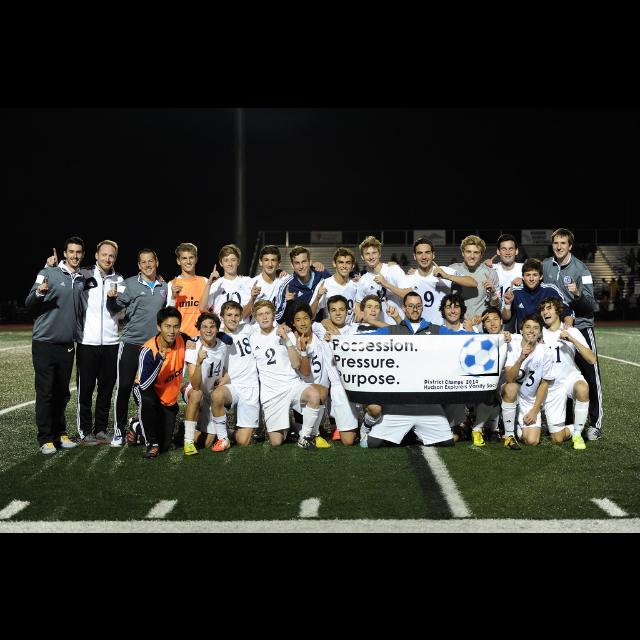Football: (459, 336, 499, 376)
